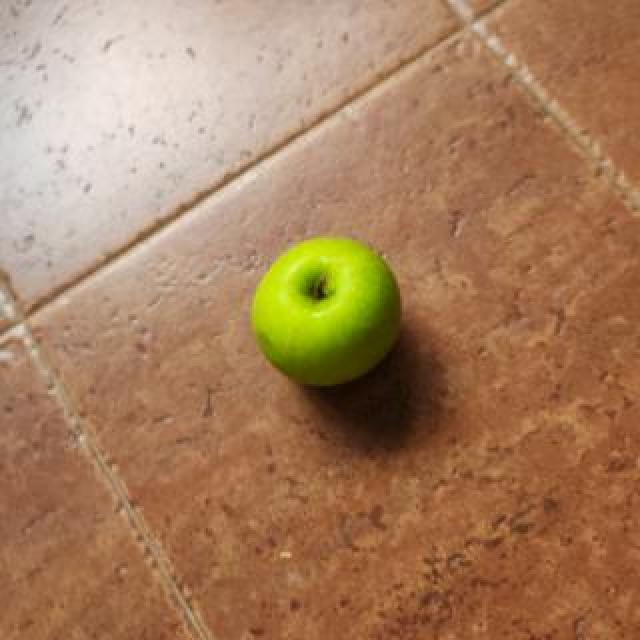Fresh Apple: (255, 244, 398, 391)
